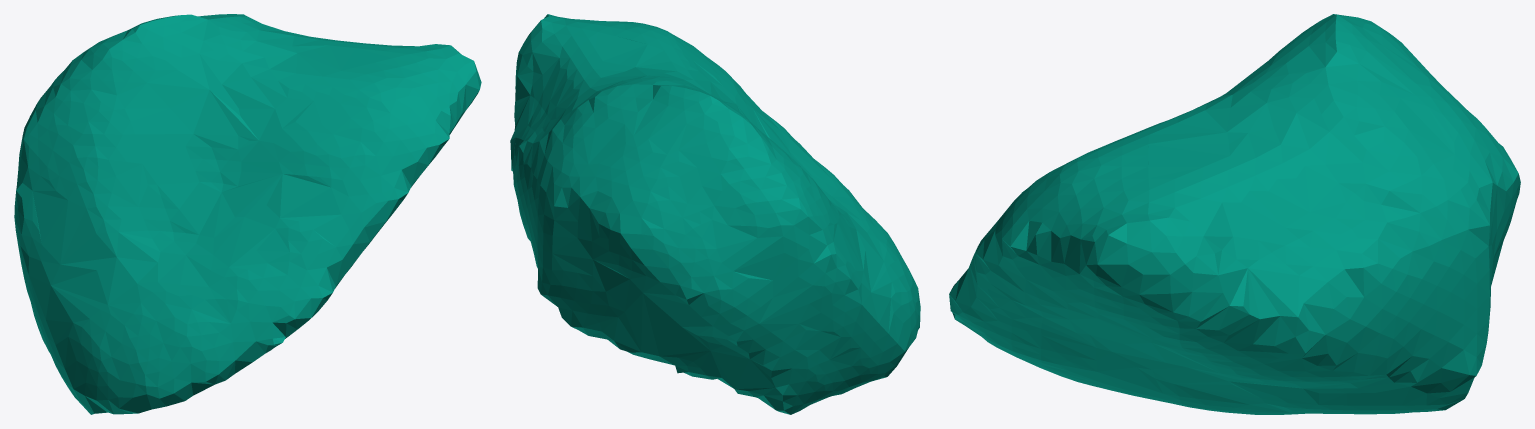
Rendered from Model_10216_LH__Internal_globus_pallidus_(IGP).obj.
3 renders of one model, left to right at view 1: azimuth 30°, elevation 25°; view 2: azimuth 150°, elevation 25°; view 3: azimuth 270°, elevation 25°, orthographic. The views are drawn at different scales.
Size of the model in its own units: 2.3 by 1.77 by 2.09.
